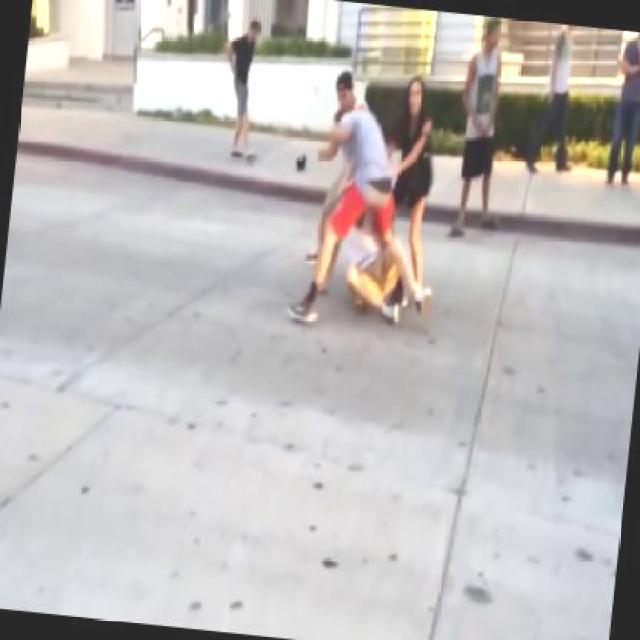fight: (296, 58, 404, 328)
non-fight: (442, 13, 516, 247), (382, 70, 446, 278), (521, 21, 587, 176), (210, 13, 275, 166), (603, 29, 639, 188)
